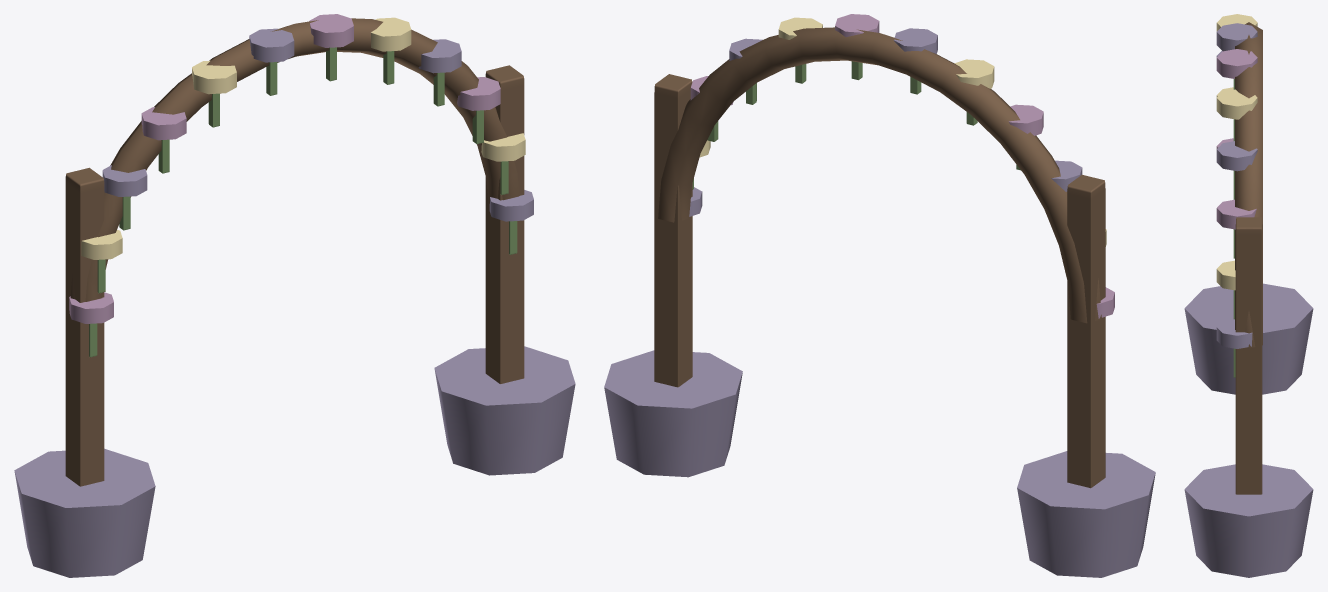
Rendered from springarch-2.glb.
3 renders of one model, left to right at view 1: azimuth 30°, elevation 25°; view 2: azimuth 150°, elevation 25°; view 3: azimuth 270°, elevation 25°, orthographic. The views are drawn at different scales.
Parts seen in each view (by area): view 1: springarch-2-0; view 2: springarch-2-0; view 3: springarch-2-0.
Part boxes in pixels (x1,y1,x2,y2): springarch-2-0: (14, 14, 575, 577); springarch-2-0: (604, 14, 1155, 577); springarch-2-0: (1184, 14, 1313, 577).
Bounding box in the file's own units: 1.9 × 1.59 × 0.44.
